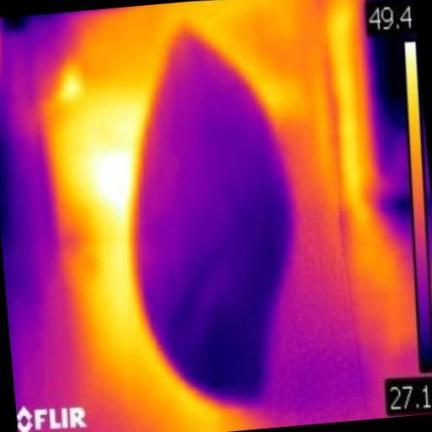mango: (135, 32, 290, 401)
